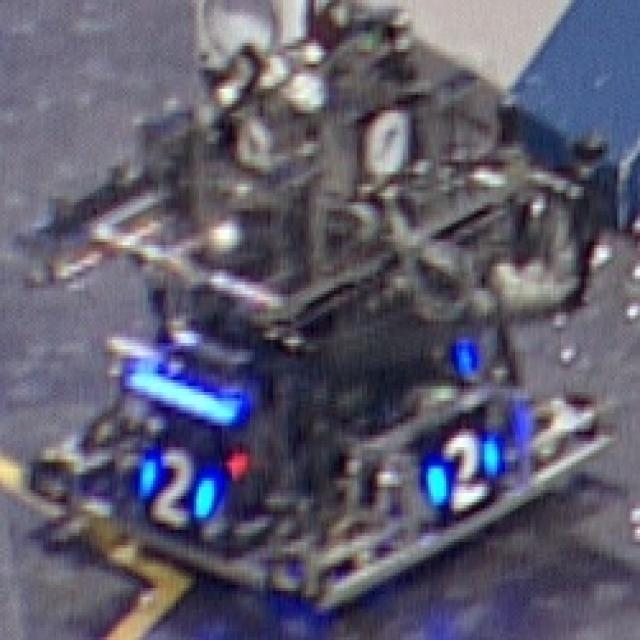B2: (423, 429, 500, 511), (138, 444, 214, 527)
